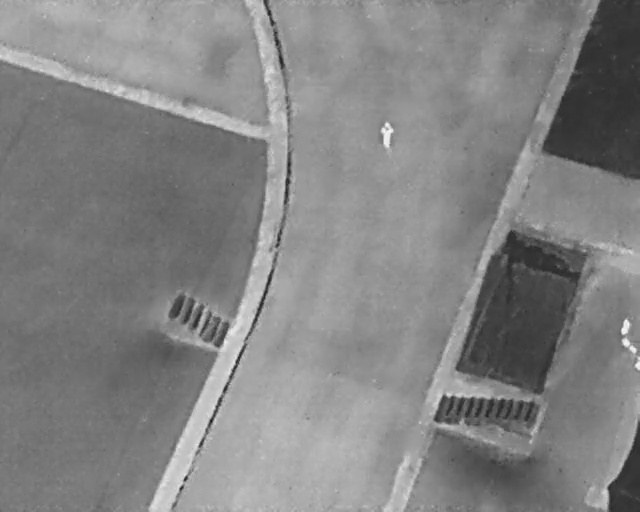Person: (380, 119, 395, 149)
